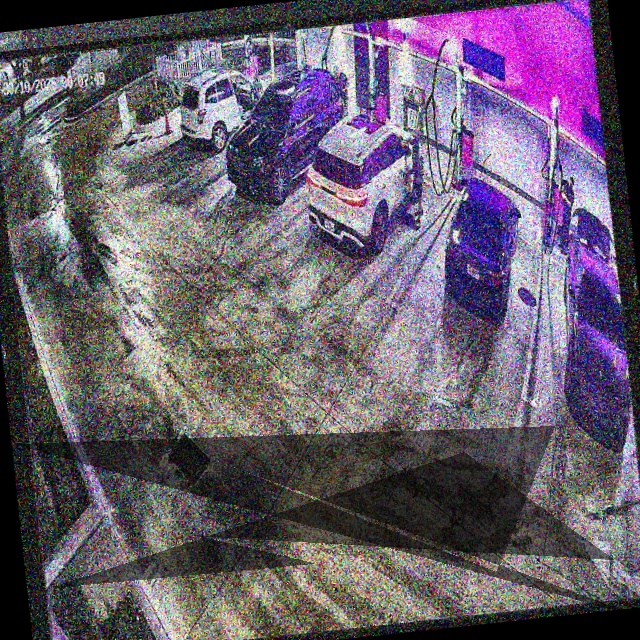Car: (300, 104, 430, 263), (215, 65, 355, 204), (434, 166, 532, 326), (173, 61, 277, 155)
